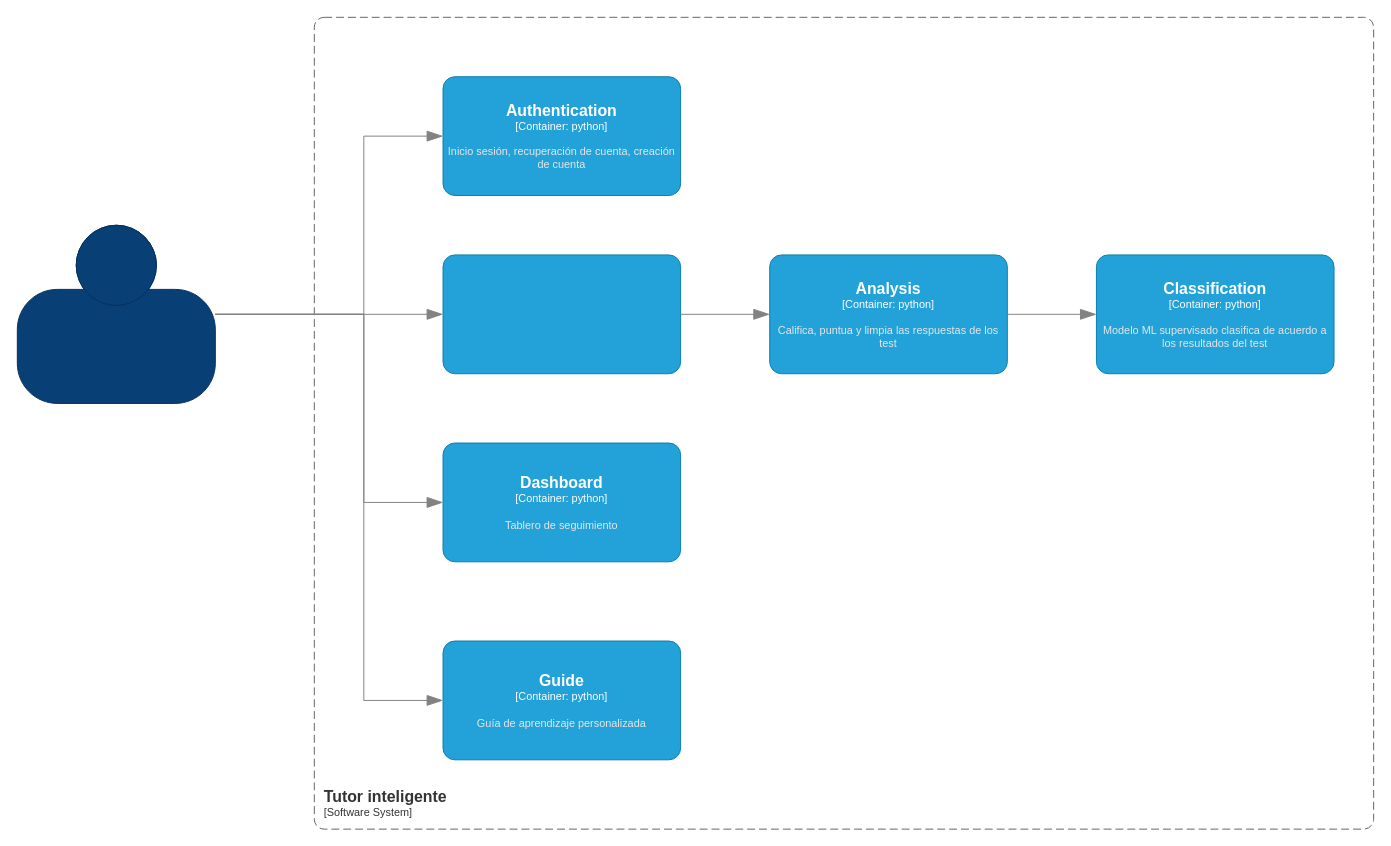
This 1391x846 diagram has some shape labels left out. The shapes that lost their labels are listed below. From the top down, each one's box as (x1, y1, x2, y2) in pixels, then its label:
(16, 224, 215, 403): Usuario [Person] Estudiante
(442, 254, 681, 374): Test [Container: python] Cuestionarios y ejercicios de programacion
